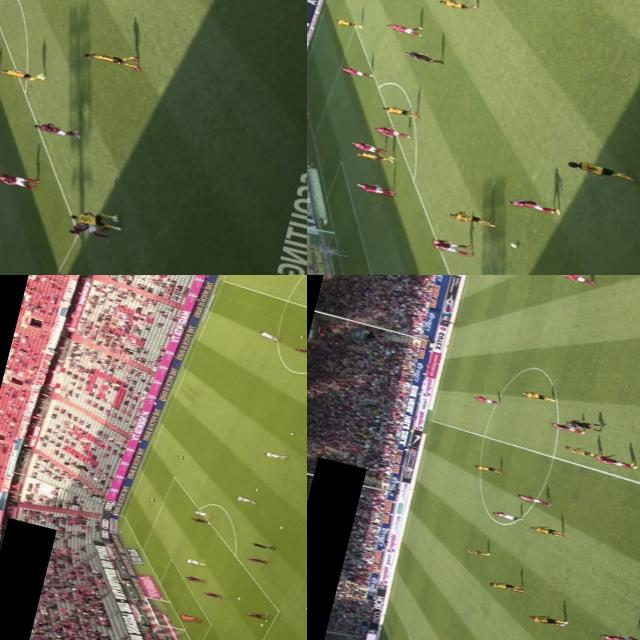ball: (507, 240, 520, 249), (107, 215, 120, 223), (236, 594, 243, 600), (276, 524, 286, 528), (298, 334, 305, 339), (176, 454, 183, 459), (302, 604, 307, 609), (149, 496, 154, 501), (290, 431, 294, 436), (258, 622, 264, 625), (254, 486, 258, 489)
player: (563, 155, 633, 182), (82, 44, 140, 71), (28, 117, 84, 140), (501, 194, 555, 215), (448, 208, 499, 230), (67, 209, 117, 231), (0, 61, 47, 84), (63, 215, 110, 236), (429, 236, 476, 256), (381, 18, 428, 38), (594, 450, 638, 470), (0, 168, 39, 190), (344, 137, 386, 155), (545, 417, 584, 436), (527, 612, 571, 628), (351, 180, 392, 197), (372, 123, 411, 140), (352, 148, 393, 164), (336, 62, 376, 78), (487, 577, 526, 593), (330, 16, 367, 32), (518, 388, 554, 404), (562, 442, 598, 458), (516, 492, 552, 508), (486, 507, 522, 523), (437, 0, 480, 13), (595, 628, 640, 640), (312, 244, 349, 258), (382, 103, 416, 117), (531, 524, 564, 538), (461, 545, 492, 558), (557, 275, 596, 285), (244, 608, 271, 621), (473, 462, 502, 474), (261, 448, 287, 461), (178, 612, 204, 623), (472, 394, 498, 405), (246, 555, 269, 566), (184, 574, 207, 584), (186, 556, 208, 566), (234, 495, 256, 504), (260, 330, 279, 340), (292, 343, 307, 355), (190, 516, 212, 524), (194, 509, 212, 517), (204, 590, 222, 598)
